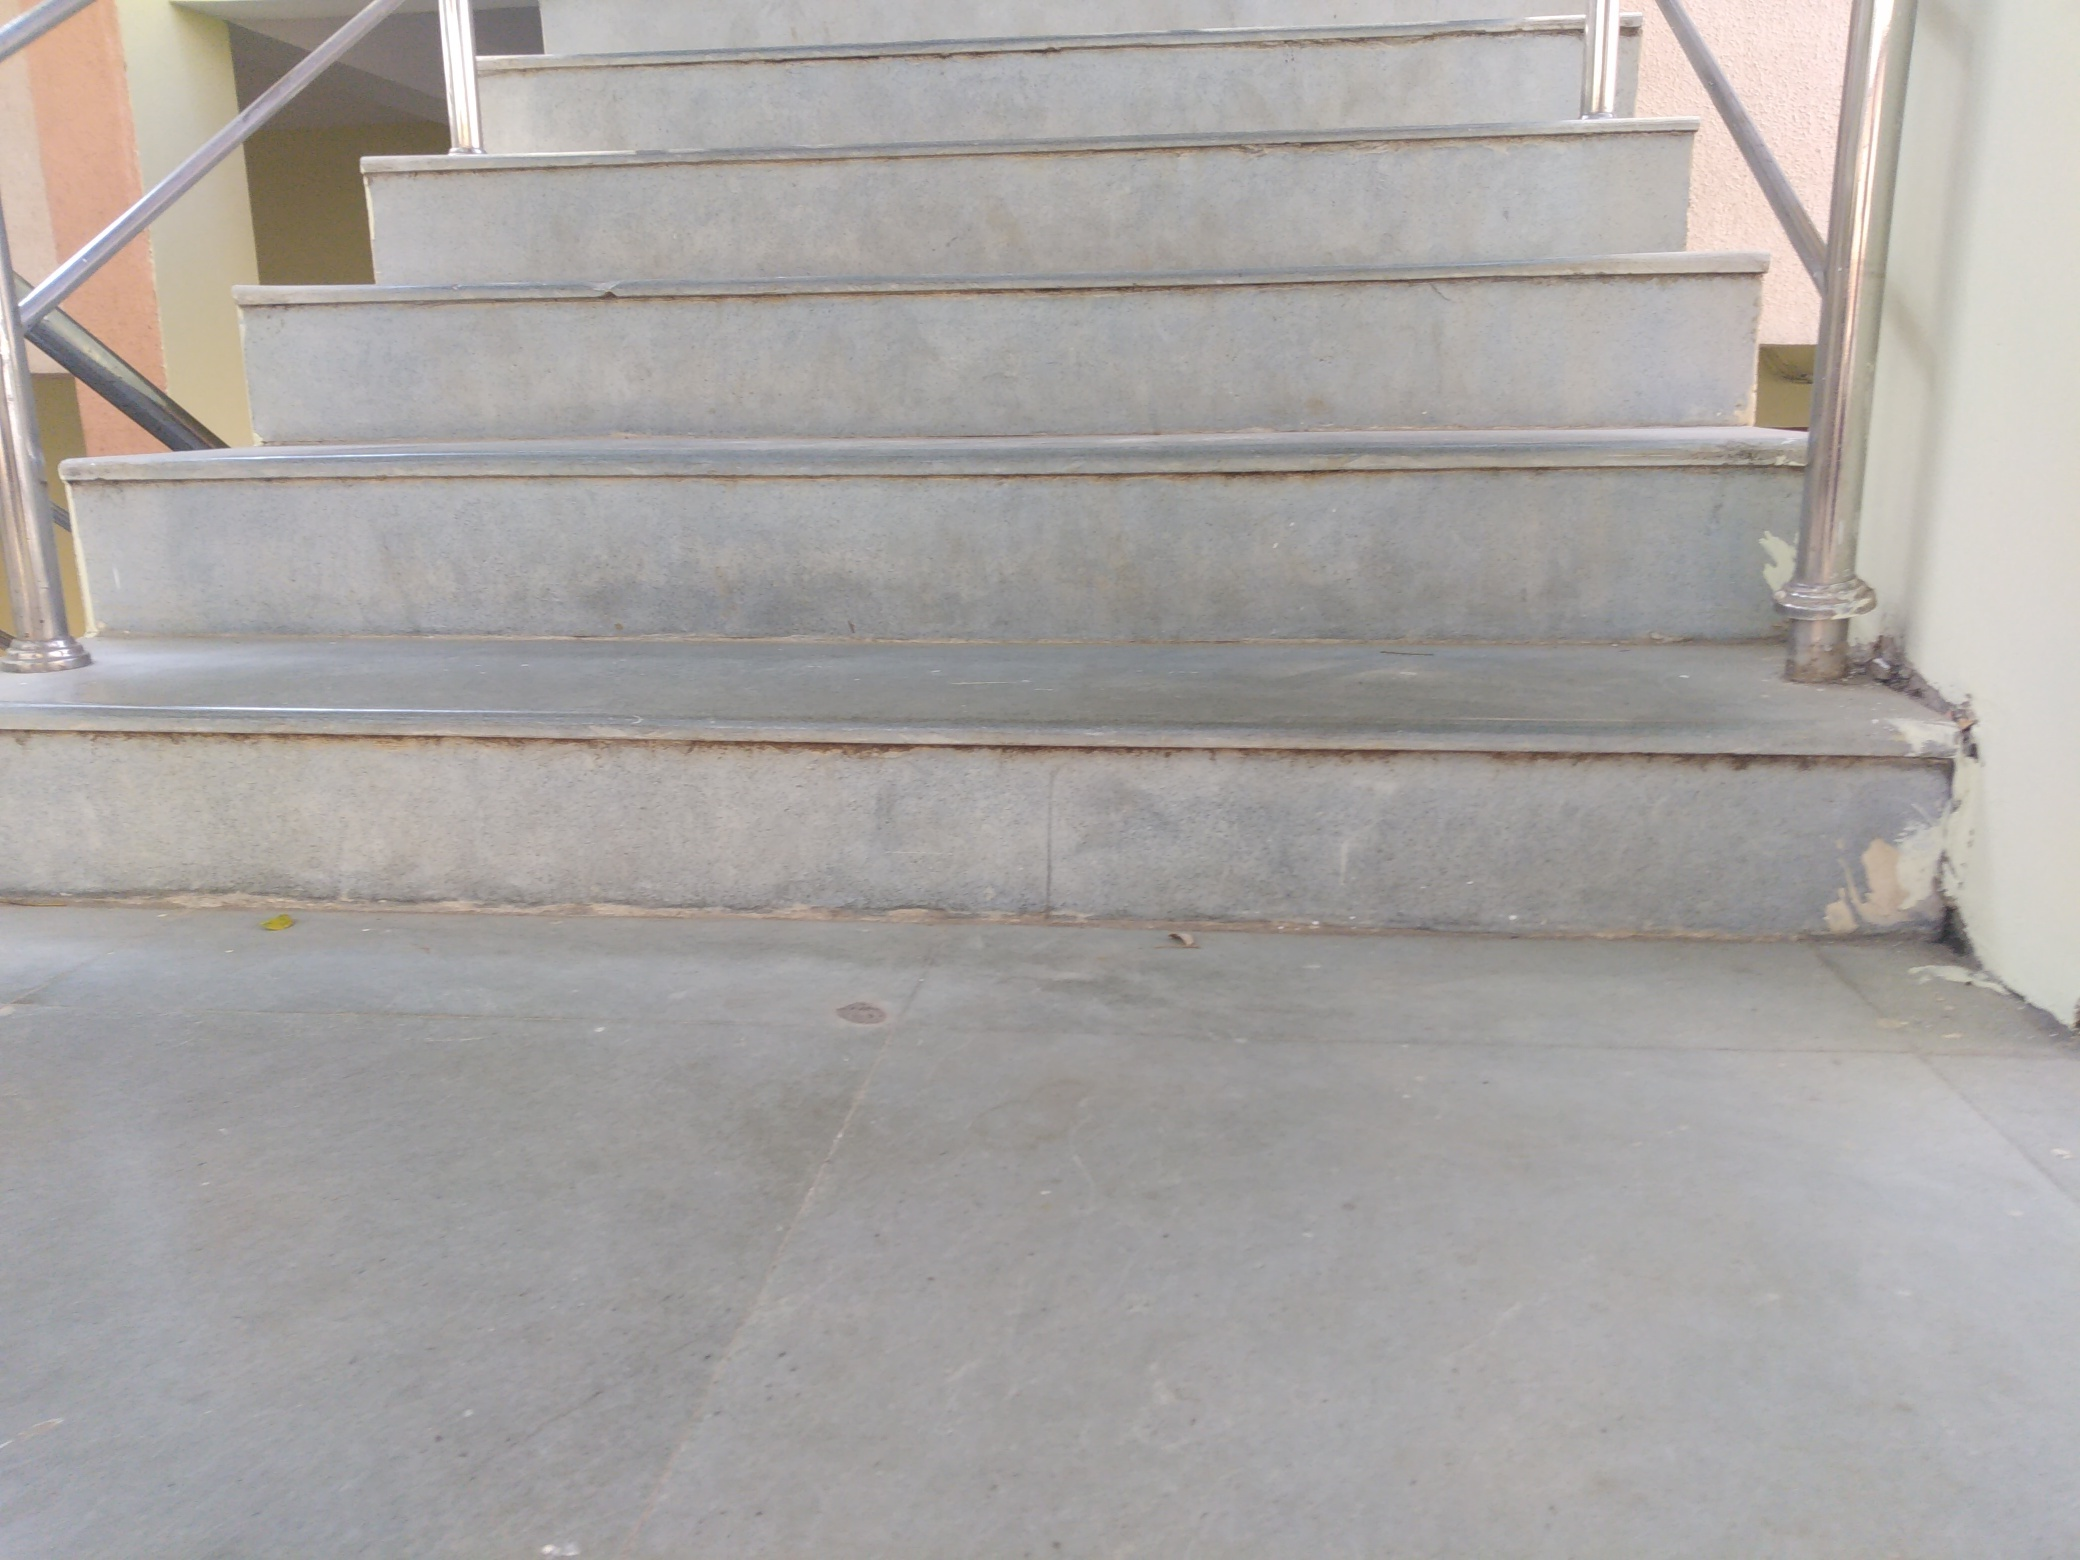stairs_up: (38, 8, 1960, 995)
